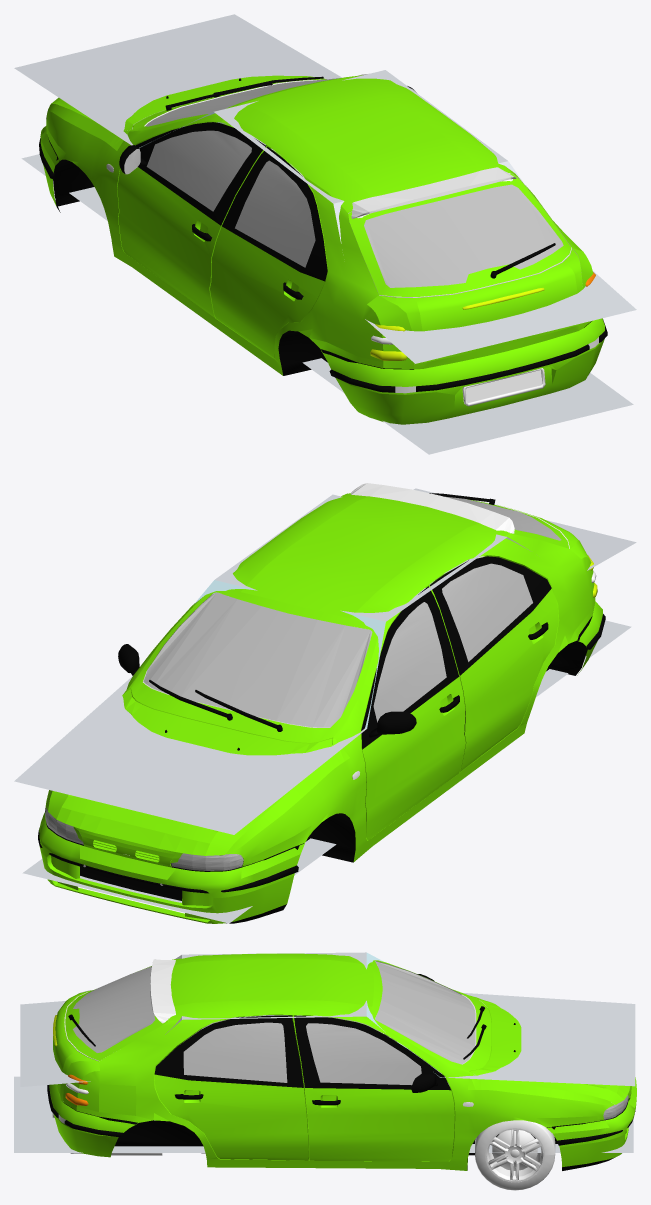
The model's file is fiat-brava.glb.
The picture shows the model from 3 angles, top to bottom: view 1: azimuth 30°, elevation 25°; view 2: azimuth 150°, elevation 25°; view 3: azimuth 270°, elevation 25°; orthographic projection. The views are drawn at different scales.
Parts seen in each view (by area): view 1: chassis, cadrona.dff.cadrona -_col.ColMesh, boot_ok, door_lf_ok, door_lr_ok, bump_rear_ok, aerof, bonnet_ok, windscreen_ok, bump_front_ok; view 2: chassis, cadrona.dff.cadrona -_col.ColMesh, windscreen_ok, door_lf_ok, door_lr_ok, bonnet_ok, bump_front_ok, aerof, boot_ok, bump_rear_ok; view 3: chassis, cadrona.dff.cadrona -_col.ColMesh, door_rf_ok, door_rr_ok, boot_ok, windscreen_ok, whl, bump_front_ok, bonnet_ok, bump_rear_ok, aerof.
Boxes of the visible parts, x1=… form: chassis: x1=46, y1=74, x2=595, y2=375; cadrona.dff.cadrona -_col.ColMesh: x1=14, y1=14, x2=636, y2=454; boot_ok: x1=348, y1=173, x2=583, y2=369; door_lf_ok: x1=117, y1=122, x2=265, y2=317; door_lr_ok: x1=210, y1=147, x2=328, y2=358; bump_rear_ok: x1=320, y1=318, x2=607, y2=424; aerof: x1=348, y1=167, x2=516, y2=218; bonnet_ok: x1=50, y1=75, x2=326, y2=130; windscreen_ok: x1=46, y1=75, x2=363, y2=126; bump_front_ok: x1=39, y1=126, x2=60, y2=212; chassis: x1=45, y1=493, x2=597, y2=900; cadrona.dff.cadrona -_col.ColMesh: x1=14, y1=488, x2=636, y2=923; windscreen_ok: x1=45, y1=592, x2=372, y2=870; door_lf_ok: x1=361, y1=586, x2=465, y2=840; door_lr_ok: x1=430, y1=556, x2=558, y2=771; bonnet_ok: x1=48, y1=689, x2=332, y2=867; bump_front_ok: x1=38, y1=812, x2=304, y2=923; aerof: x1=350, y1=483, x2=514, y2=533; boot_ok: x1=429, y1=493, x2=578, y2=548; bump_rear_ok: x1=577, y1=601, x2=605, y2=675; chassis: x1=63, y1=953, x2=629, y2=1170; cadrona.dff.cadrona -_col.ColMesh: x1=14, y1=952, x2=635, y2=1152; door_rf_ok: x1=294, y1=1015, x2=454, y2=1161; door_rr_ok: x1=154, y1=1015, x2=308, y2=1160; boot_ok: x1=53, y1=966, x2=168, y2=1102; windscreen_ok: x1=375, y1=961, x2=628, y2=1119; whl: x1=475, y1=1120, x2=555, y2=1190; bump_front_ok: x1=546, y1=1077, x2=636, y2=1170; bonnet_ok: x1=470, y1=996, x2=631, y2=1104; bump_rear_ok: x1=47, y1=1084, x2=137, y2=1157; aerof: x1=150, y1=959, x2=175, y2=1023.
Size of what is drawn, in the model's own units: 2.22 by 1.61 by 5.33.
